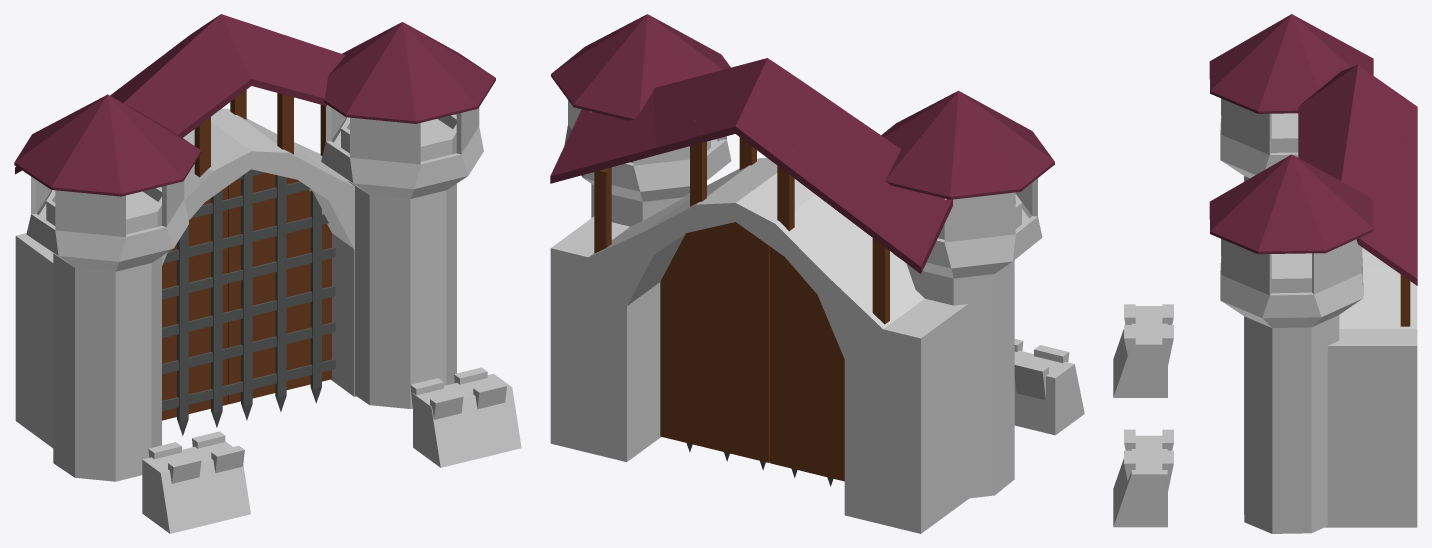
Rendered from Gate - Fortified.fbx.
3 views of the same model, side by side, from view 1: azimuth 30°, elevation 25°; view 2: azimuth 150°, elevation 25°; view 3: azimuth 270°, elevation 25° (orthographic). The views are drawn at different scales.
Visible parts, largest first — view 1: Tower_010, Cover_012, Cover_011, Tower_009, Portculis, Castle_Wall_002, Gate_001, Cover_010, Ditch_Wall_008, Counterscarp__002, Open_Top_002, Open_Top_003; view 2: Castle_Wall_002, Gate_001, Cover_010, Cover_012, Cover_011, Tower_010, Ditch_Wall_008, Counterscarp__002, Tower_009; view 3: Castle_Wall_002, Cover_011, Tower_009, Cover_010, Cover_012, Ditch_Wall_008, Counterscarp__002, Open_Top_002, Open_Top_003.
Part boxes in pixels (left/top/right/bottom): Tower_010: left=53, top=253, right=161, bottom=481; Cover_012: left=14, top=94, right=201, bottom=271; Cover_011: left=321, top=22, right=495, bottom=198; Tower_009: left=348, top=181, right=456, bottom=408; Portculis: left=162, top=169, right=335, bottom=435; Castle_Wall_002: left=15, top=108, right=356, bottom=447; Gate_001: left=162, top=172, right=331, bottom=420; Cover_010: left=15, top=14, right=345, bottom=177; Ditch_Wall_008: left=142, top=374, right=521, bottom=533; Counterscarp__002: left=148, top=367, right=506, bottom=483; Open_Top_002: left=341, top=114, right=456, bottom=161; Open_Top_003: left=46, top=187, right=161, bottom=234; Castle_Wall_002: left=550, top=157, right=968, bottom=533; Gate_001: left=660, top=222, right=844, bottom=481; Cover_010: left=550, top=58, right=952, bottom=324; Cover_012: left=881, top=90, right=1054, bottom=278; Cover_011: left=551, top=14, right=731, bottom=201; Tower_010: left=906, top=260, right=1014, bottom=498; Ditch_Wall_008: left=1014, top=350, right=1084, bottom=435; Counterscarp__002: left=1014, top=339, right=1069, bottom=400; Tower_009: left=591, top=184, right=689, bottom=226; Castle_Wall_002: left=1324, top=247, right=1417, bottom=527; Cover_011: left=1209, top=154, right=1373, bottom=327; Tower_009: left=1244, top=315, right=1339, bottom=533; Cover_010: left=1298, top=65, right=1417, bottom=326; Cover_012: left=1209, top=14, right=1373, bottom=178; Ditch_Wall_008: left=1113, top=306, right=1167, bottom=527; Counterscarp__002: left=1124, top=304, right=1173, bottom=490; Open_Top_002: left=1271, top=253, right=1311, bottom=293; Open_Top_003: left=1271, top=113, right=1298, bottom=152.
Size of the model in its own units: 12.72 by 10.94 by 7.64.
